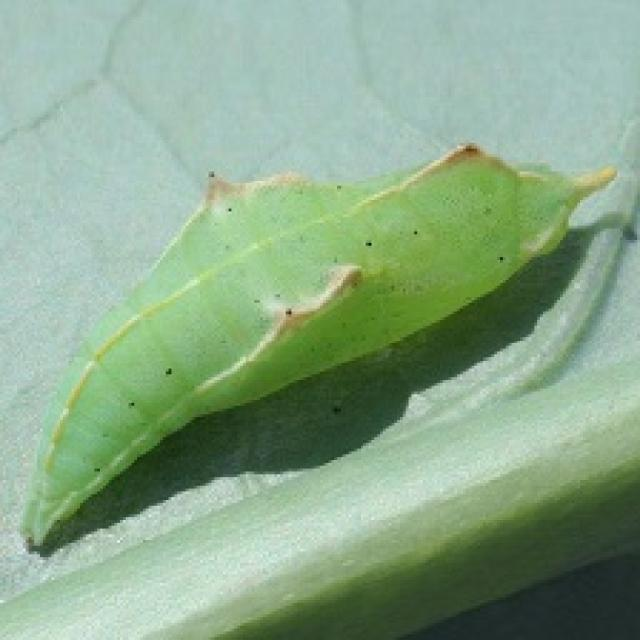Cabbage-worm: (1, 137, 640, 540)
